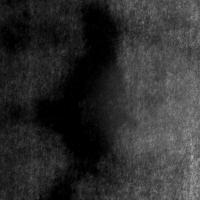patches: (35, 6, 125, 163), (90, 40, 200, 168), (107, 61, 200, 163), (39, 173, 80, 200), (1, 20, 30, 54)
